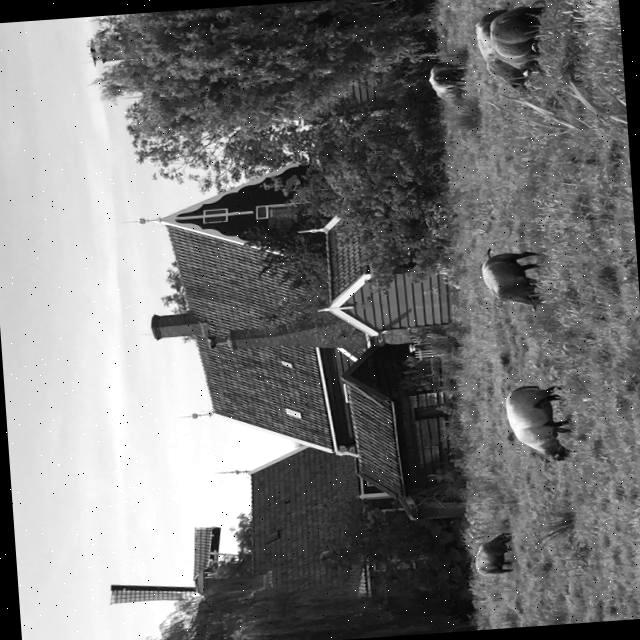sheep: (505, 385, 570, 460), (490, 6, 543, 75), (474, 9, 519, 88), (481, 248, 539, 309), (475, 532, 511, 572), (434, 62, 465, 105)
